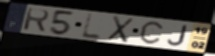5: (47, 9, 79, 37)
C: (138, 21, 164, 46)
J: (166, 25, 189, 47)
L: (80, 13, 102, 41)
R: (22, 7, 51, 33)
X: (105, 14, 136, 44)
